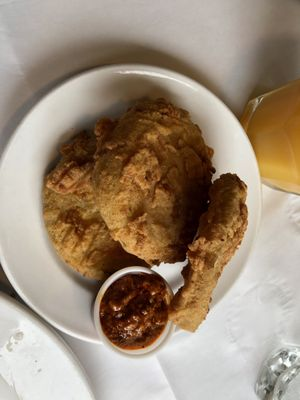sushi: (1, 60, 266, 394), (0, 289, 96, 400), (91, 266, 173, 357)
